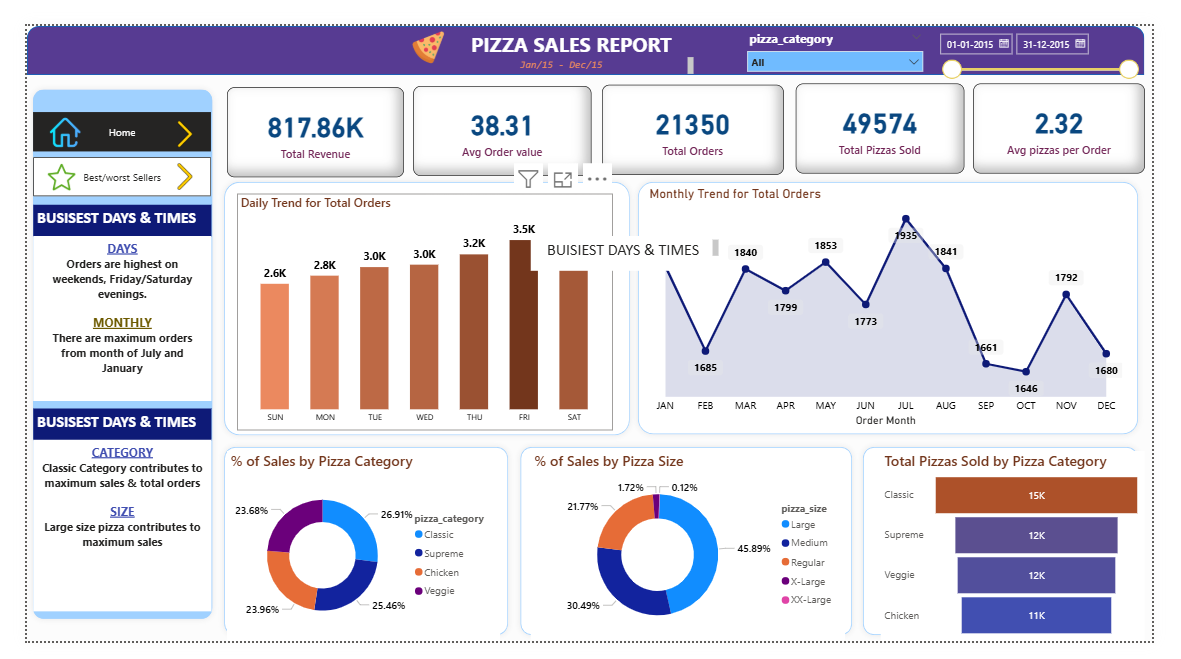

The page's visual inventory and layout, read from the dashboard file:
{"tool":"powerbi","page":{"name":"Home","canvas":[1500,820],"ordinal":0},"visuals":[{"type":"shape","box":[0,0,1489.9,65.2],"z":0},{"type":"shape","box":[0,76.8,255.1,721.7],"z":1000},{"type":"card","fields":{"Values":["pizza_sales.Total Revenue"]},"box":[266.7,81.2,236.2,120.3],"z":2000},{"type":"card","fields":{"Values":["pizza_sales.Avg Order value"]},"box":[514.5,79.7,237.7,120.3],"z":3000},{"type":"card","fields":{"Values":["pizza_sales.Total Pizzas Sold"]},"box":[1024.6,76.8,224.6,120.3],"z":4000},{"type":"card","fields":{"Values":["pizza_sales.Total Orders"]},"box":[766.7,78.3,242,120.3],"z":5000},{"type":"card","fields":{"Values":["pizza_sales.Avg pizzas per Order"]},"box":[1260.9,76.8,229,120.3],"z":6000},{"type":"textbox","box":[639.1,36.2,255.1,37.7],"z":7000},{"type":"image","box":[485.5,1.4,100,53.6],"z":8000},{"type":"shape","box":[255.1,200,556.5,353.6],"z":9000},{"type":"columnChart","title":"Daily Trend for Total Orders ","fields":{"Category":["pizza_sales.Order day"],"Y":["pizza_sales.Total Orders"]},"box":[279.7,223.2,501.4,315.9],"z":10000},{"type":"shape","box":[807.2,200,682.6,352.2],"z":11000},{"type":"areaChart","title":"Monthly Trend for Total Orders","fields":{"Y":["pizza_sales.Total Orders"],"Category":["pizza_sales.Order Month"]},"box":[824.6,213,640.6,326.1],"z":12000},{"type":"shape","box":[255.1,553.6,394.2,266.7],"z":13000},{"type":"shape","box":[649.3,553.6,458,266.7],"z":14000},{"type":"shape","box":[1107.2,553.6,382.6,266.7],"z":15000},{"type":"textbox","box":[485.5,1.4,491.3,65.2],"z":16000},{"type":"donutChart","title":"% of Sales by Pizza Category","fields":{"Category":["pizza_sales.pizza_category"],"Y":["pizza_sales.Total Revenue"]},"box":[266.7,566.7,363.8,253.6],"z":17000},{"type":"donutChart","title":"% of Sales by Pizza Size","fields":{"Y":["pizza_sales.Total Revenue"],"Category":["pizza_sales.pizza_size"]},"box":[671,566.7,418.8,252.2],"z":18000},{"type":"funnel","title":"Total Pizzas Sold by Pizza Category","fields":{"Category":["pizza_sales.pizza_category"],"Y":["pizza_sales.Total Pizzas Sold"]},"box":[1137.7,566.7,352.2,253.6],"z":19000},{"type":"textbox","box":[671,279.7,255.1,46.4],"z":20000},{"type":"textbox","box":[8.7,237.7,237.7,42],"z":21000},{"type":"textbox","box":[8.7,279.7,237.7,220.3],"z":22000},{"type":"slicer","fields":{"Values":["pizza_sales.pizza_category"]},"box":[949.3,0,255.1,66.7],"z":23000},{"type":"slicer","fields":{"Values":["pizza_sales.order_date"]},"box":[1204.3,0,285.5,81.2],"z":24000},{"type":"textbox","box":[8.7,510.1,237.7,42],"z":25000},{"type":"textbox","box":[8.7,552.2,237.7,229],"z":25001},{"type":"pageNavigator","box":[8.7,114.5,237.7,52.2],"z":25002},{"type":"pageNavigator","box":[8.7,175.4,237.7,52.2],"z":25003},{"type":"image","box":[185.5,178.3,50.7,44.9],"z":25004},{"type":"image","box":[13,178.3,65.2,46.4],"z":25005},{"type":"image","box":[185.5,121.7,50.7,44.9],"z":25006},{"type":"image","box":[23.2,115.9,55.1,50.7],"z":25007}]}

Visuals, with their boxes in screenshot pixels (x1, y1, x2, y2), scaled from the page's 1500x820 canvas onto the 1181x659 screenshot:
shape: (0,0,1173,52)
shape: (0,62,201,642)
card - pizza_sales.Total Revenue: (210,65,396,162)
card - pizza_sales.Avg Order value: (405,64,592,161)
card - pizza_sales.Total Pizzas Sold: (807,62,984,158)
card - pizza_sales.Total Orders: (604,63,794,160)
card - pizza_sales.Avg pizzas per Order: (993,62,1173,158)
textbox: (503,29,704,59)
image: (382,1,461,44)
shape: (201,161,639,445)
"Daily Trend for Total Orders " columnChart: (220,179,615,433)
shape: (636,161,1173,444)
"Monthly Trend for Total Orders" areaChart: (649,171,1154,433)
shape: (201,445,511,658)
shape: (511,445,872,658)
shape: (872,445,1173,658)
textbox: (382,1,769,54)
"% of Sales by Pizza Category" donutChart: (210,455,496,658)
"% of Sales by Pizza Size" donutChart: (528,455,858,658)
"Total Pizzas Sold by Pizza Category" funnel: (896,455,1173,658)
textbox: (528,225,729,262)
textbox: (7,191,194,225)
textbox: (7,225,194,402)
slicer - pizza_sales.pizza_category: (747,0,948,54)
slicer - pizza_sales.order_date: (948,0,1173,65)
textbox: (7,410,194,444)
textbox: (7,444,194,628)
pageNavigator: (7,92,194,134)
pageNavigator: (7,141,194,183)
image: (146,143,186,179)
image: (10,143,62,181)
image: (146,98,186,134)
image: (18,93,62,134)
